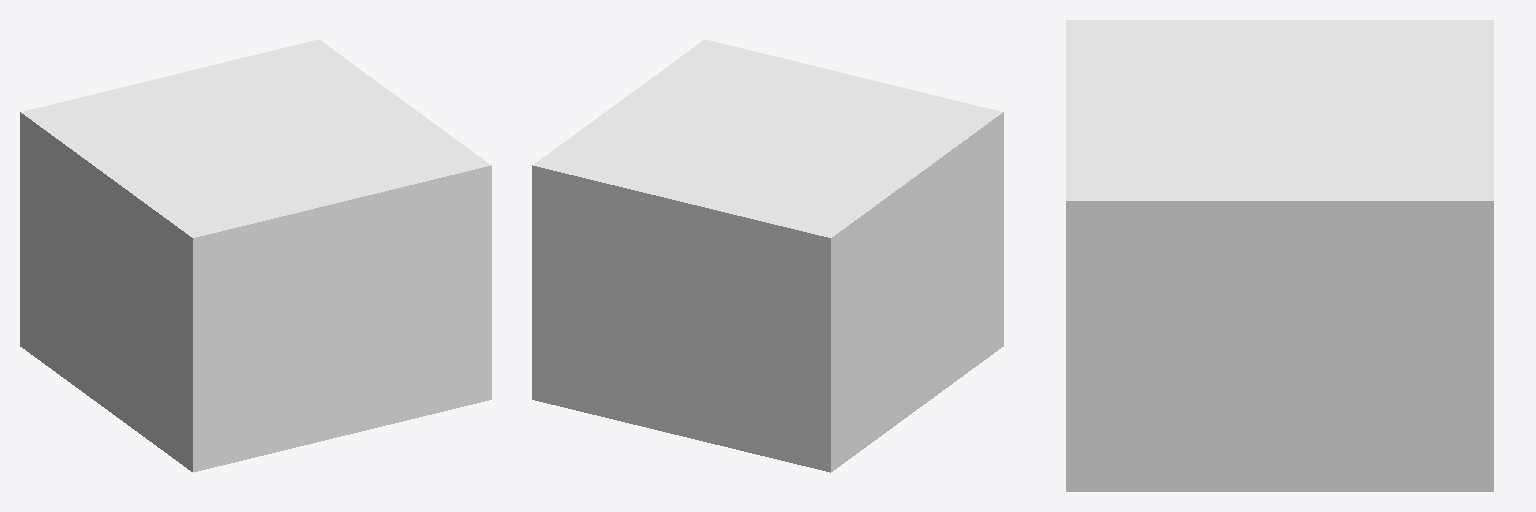
robot.urdf — 2x2:
<?xml version="1.0" encoding="utf-8"?>
<!-- This URDF was automatically created by SolidWorks to URDF Exporter! Originally created by [author] ([email redacted]) 
     Commit Version: 1.6.0-4-g7f85cfe  Build Version: 1.6.7995.38578
     For more information, please see http://wiki.ros.org/sw_urdf_exporter -->
<robot
  name="2x2">
  <contact>
      <lateral_friction value="1.0"/>
      <rolling_friction value="0.0"/>
      <contact_cfm value="0.0"/>
      <contact_erp value="1.0"/>
    </contact>
  <link
    name="base_link">
    <inertial>
      <origin
        xyz="0 0 0"
        rpy="0 0 0" />
      <mass
        value="0.01" />
      <inertia
        ixx="0.1"
        ixy="0"
        ixz="0"
        iyy="0.1"
        iyz="0"
        izz="0.1" />
    </inertial>
    <visual>
      <origin
        xyz="0 0 0"
        rpy="0 0 0" />
      <geometry>
          <box size="0.016 0.016 0.012"/>
      </geometry>
      <material name="">
        <color rgba="1 1 1 1" />
      </material>
    </visual>
    <collision>
      <origin
        xyz="0.0 0.0 0.0"
        rpy="0.0 0.0 0.0" />
      <geometry>
        <box size="0.016 0.016 0.012"/>
      </geometry>
    </collision>
  </link>
</robot>

--- Render facts (derived) ---
Views: 3 orthographic renders of the robot side by side, from view 1: azimuth 30°, elevation 25°; view 2: azimuth 150°, elevation 25°; view 3: azimuth 270°, elevation 25°.
Robot: 2x2 — 1 links, 0 joints (none); root link base_link; default pose: all joints at 0.
Links seen in each view (by area): view 1: base_link; view 2: base_link; view 3: base_link.
Link boxes in pixels (bbox=[...]): base_link: bbox=[20, 39, 491, 472]; base_link: bbox=[532, 39, 1003, 472]; base_link: bbox=[1066, 20, 1493, 491].
Bounding box of the posed robot: 0.016 × 0.016 × 0.012 m (x, y, z).
Geometry: primitives only (box / cylinder / sphere), no mesh files.